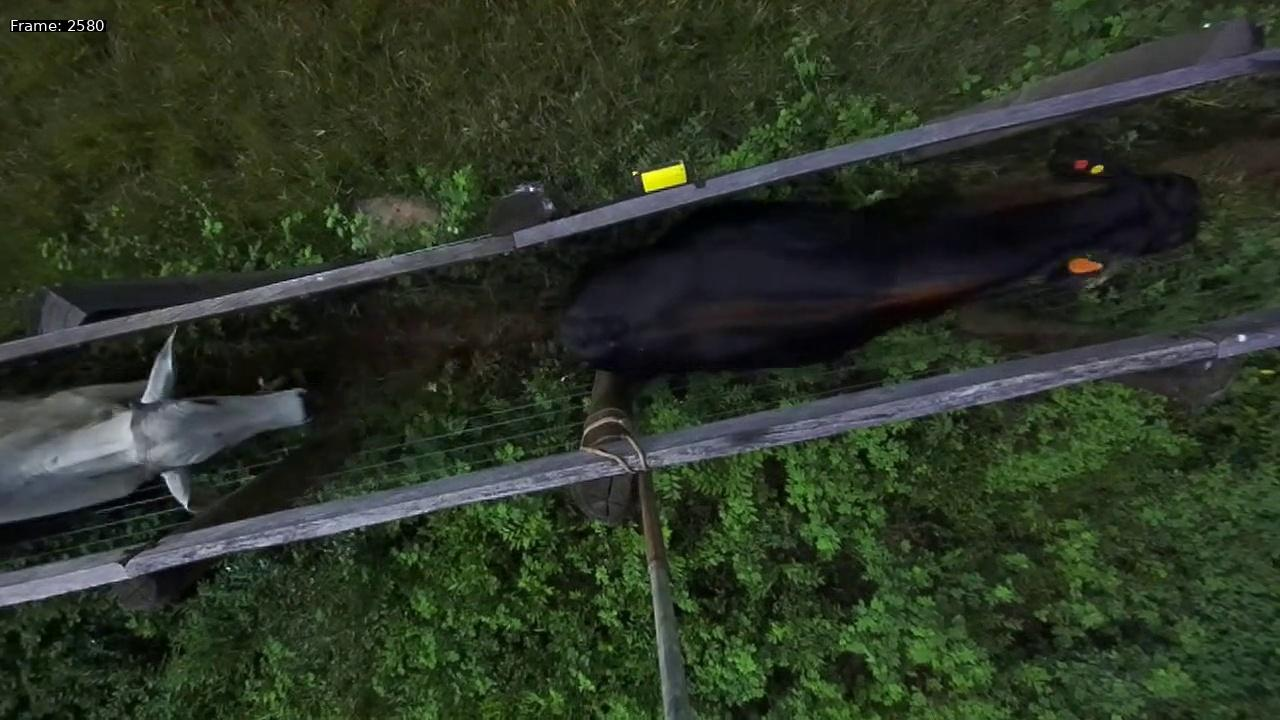cattle: (534, 115, 1206, 414)
